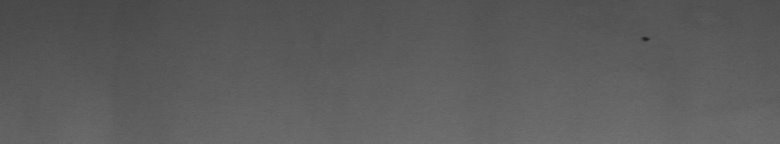fi: (641, 28, 651, 48)
